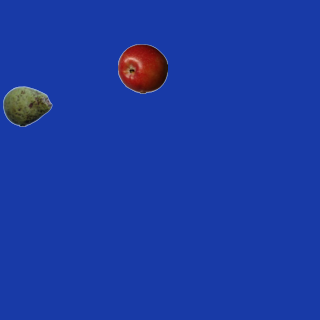Apple Braeburn: (117, 43, 167, 93)
Pear Stone: (2, 81, 52, 131)
